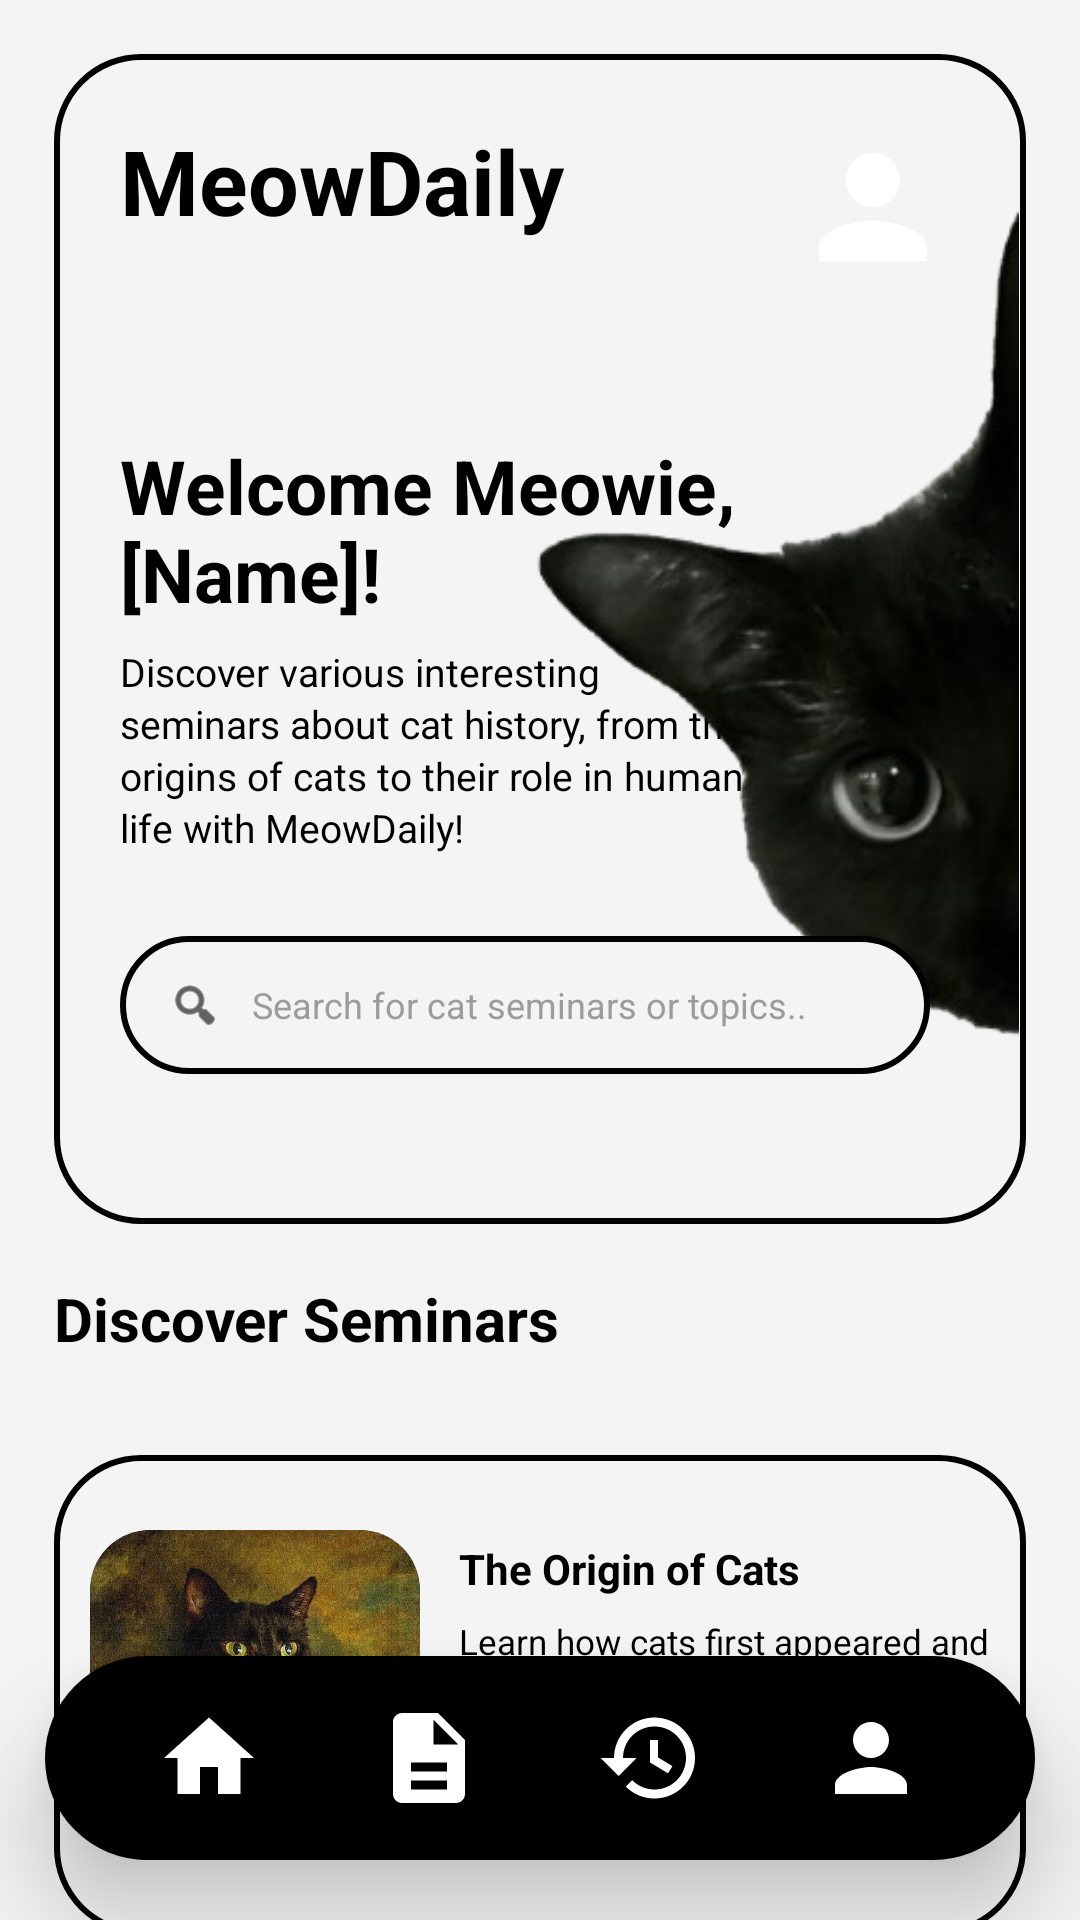

Icon click points for this 1080px x 1920px phone screenshot, format (x,y):
Form: (429,1758)
